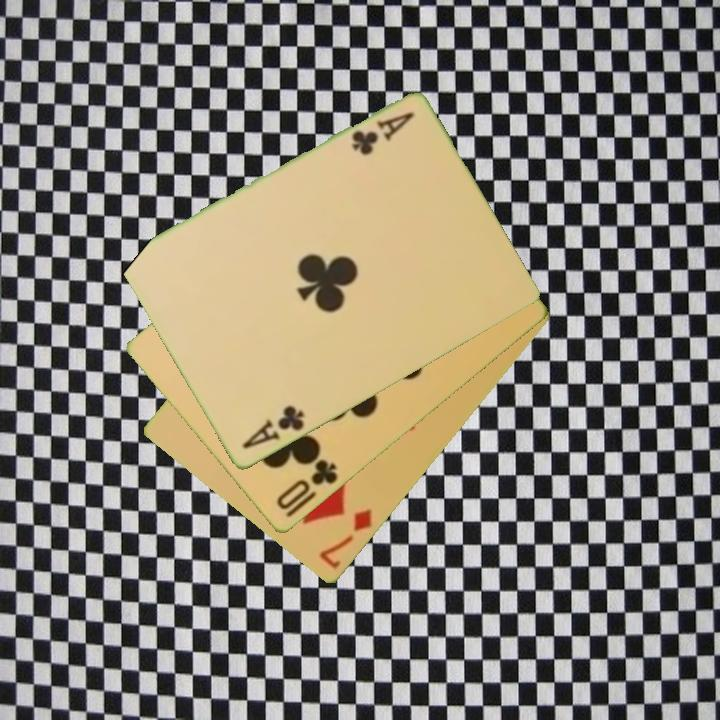10c: (273, 456, 341, 514)
7d: (316, 505, 375, 572)
Ac: (347, 109, 418, 159), (238, 402, 307, 453)
